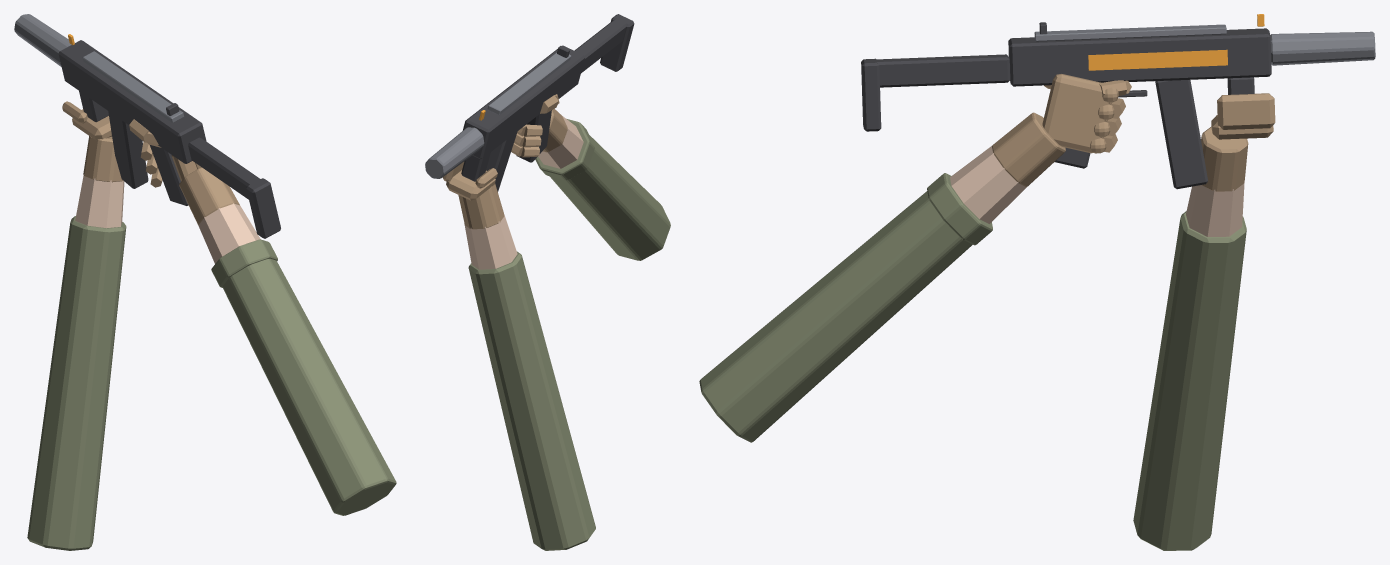
File: viewmodel_smg.glb
3 views of the same model, side by side, from view 1: azimuth 30°, elevation 25°; view 2: azimuth 150°, elevation 25°; view 3: azimuth 270°, elevation 25° (orthographic). The views are drawn at different scales.
Visible parts, largest first — view 1: L_sleeve, sleeve.001, receiver, forearm.001, L_forearm, cuff.001, stock, magazine, top_rail, sleeve_hem.001, shroud, butt (+4 smaller); view 2: L_sleeve, sleeve.001, receiver, L_forearm, shroud, L_cuff, top_rail, stock, sleeve_hem.001, forearm.001, butt, magazine (+4 smaller); view 3: L_sleeve, sleeve.001, receiver, magazine, stock, hand_back.001, shroud, forearm.001, cuff.001, L_forearm, L_cuff, accent (+4 smaller).
Boxes of the visible parts, bbox=[...] form: L_sleeve: bbox=[27, 216, 126, 550]; sleeve.001: bbox=[222, 258, 396, 515]; receiver: bbox=[58, 40, 206, 163]; forearm.001: bbox=[198, 203, 260, 263]; L_forearm: bbox=[75, 174, 124, 228]; cuff.001: bbox=[179, 167, 239, 224]; stock: bbox=[188, 137, 260, 199]; magazine: bbox=[108, 111, 148, 188]; top_rail: bbox=[82, 51, 183, 122]; sleeve_hem.001: bbox=[211, 239, 277, 287]; shroud: bbox=[14, 14, 71, 66]; butt: bbox=[246, 178, 280, 238]; L_sleeve: bbox=[468, 251, 595, 550]; sleeve.001: bbox=[550, 135, 670, 260]; receiver: bbox=[463, 45, 584, 159]; L_forearm: bbox=[464, 214, 517, 269]; shroud: bbox=[425, 127, 484, 178]; L_cuff: bbox=[458, 183, 504, 229]; top_rail: bbox=[487, 52, 571, 114]; stock: bbox=[574, 18, 626, 73]; sleeve_hem.001: bbox=[535, 119, 594, 180]; forearm.001: bbox=[538, 115, 583, 168]; butt: bbox=[600, 14, 634, 71]; magazine: bbox=[486, 131, 517, 191]; L_sleeve: bbox=[1133, 211, 1246, 550]; sleeve.001: bbox=[699, 191, 972, 442]; receiver: bbox=[1008, 28, 1271, 86]; magazine: bbox=[1155, 80, 1207, 189]; stock: bbox=[875, 54, 1010, 87]; hand_back.001: bbox=[1042, 74, 1110, 153]; shroud: bbox=[1270, 31, 1375, 65]; forearm.001: bbox=[950, 146, 1026, 223]; cuff.001: bbox=[992, 112, 1065, 186]; L_forearm: bbox=[1186, 181, 1244, 236]; L_cuff: bbox=[1201, 127, 1248, 191]; accent: bbox=[1088, 49, 1227, 70].
Bounding box in the file's own units: 0.0787 × 0.2095 × 0.2328.
